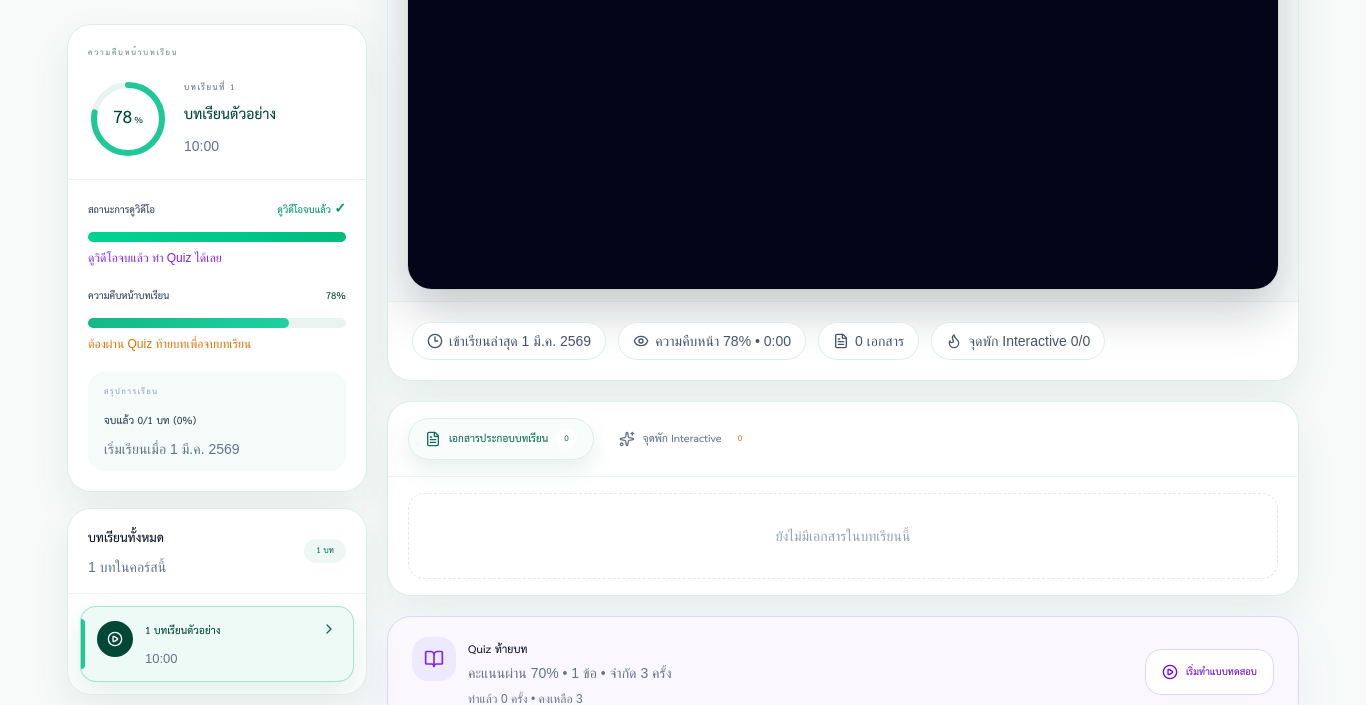
Test: CourseLearningArea quiz opening › shows a progress sync notice when quiz opening is blocked before runtime loads
The width and height of the screenshot is (1366, 705).
(page scrolled)
Expected: the heading "Quiz ท้ายบท" is shown, [468,639,528,660]
Click the button "เริ่มทำแบบทดสอบ": (1210, 672) [1145,649,1274,695]
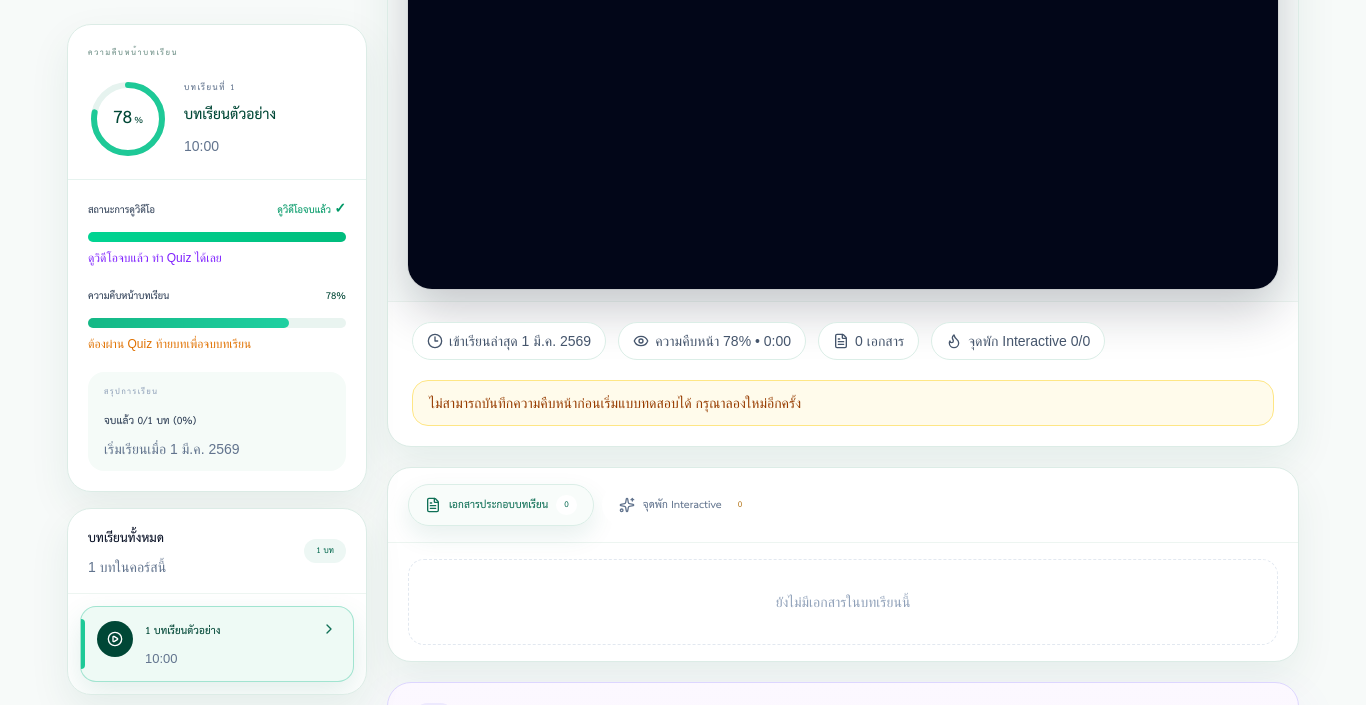
Expected: the text "โหลดแบบทดสอบท้ายบทไม่สำเร็จ" is not shown
Now the text "ไม่สามารถบันทึกความคืบหน้าก่อนเริ่มแบบทดสอบได้ กรุณาลองใหม่อีกครั้ง" is shown, box [429,395,801,411]
